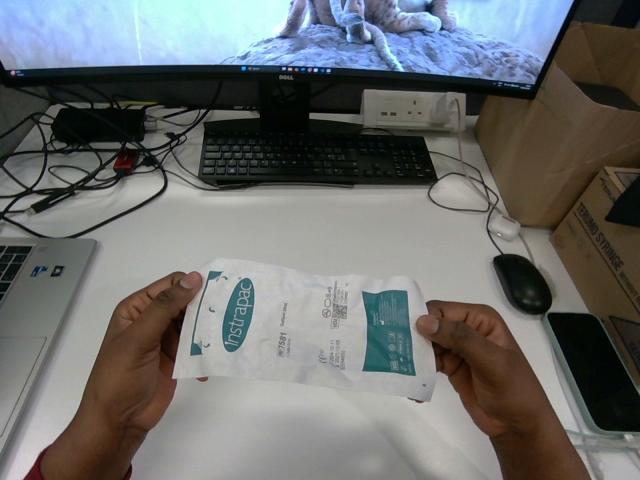gallipot: (174, 259, 435, 400)
